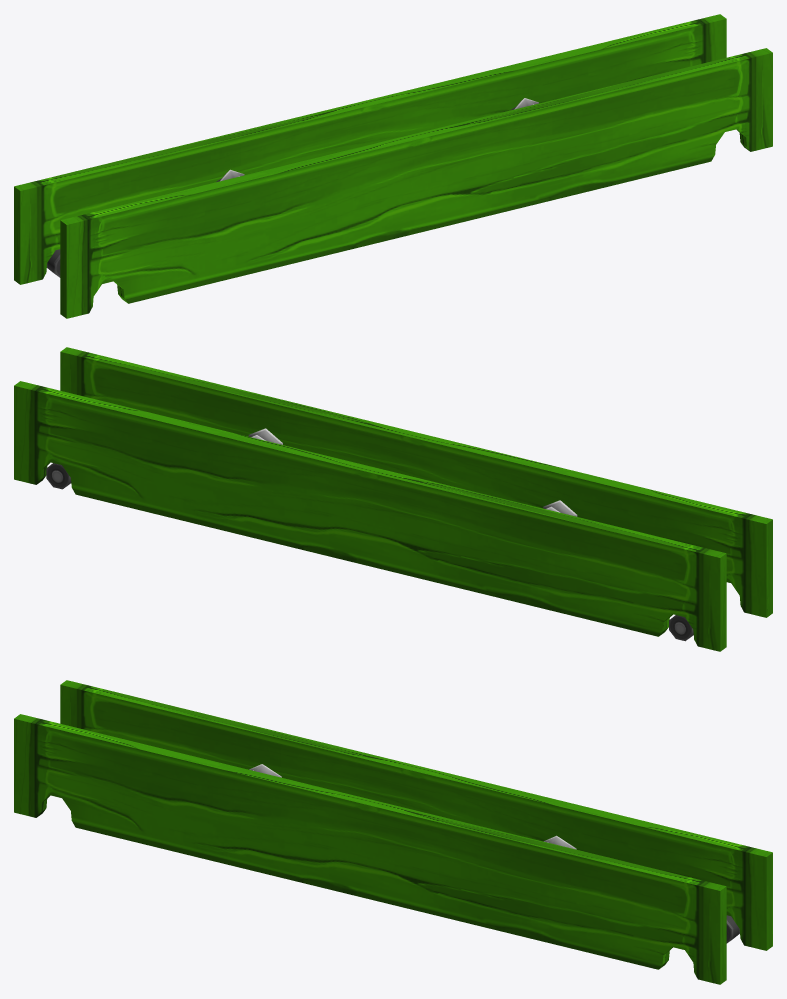
File: dynamic_fence_green_04.fbx
3 renders of one model, top to bottom at view 1: azimuth 30°, elevation 25°; view 2: azimuth 150°, elevation 25°; view 3: azimuth 330°, elevation 25°, orthographic.
Visible parts, largest first — view 1: dynamic_fence_green_04; view 2: dynamic_fence_green_04; view 3: dynamic_fence_green_04.
Part boxes in pixels (bbox=[...]): dynamic_fence_green_04: bbox=[14, 14, 772, 318]; dynamic_fence_green_04: bbox=[14, 347, 772, 651]; dynamic_fence_green_04: bbox=[14, 680, 772, 984].
Bounding box in the file's own units: 315 × 40 × 40.81.
